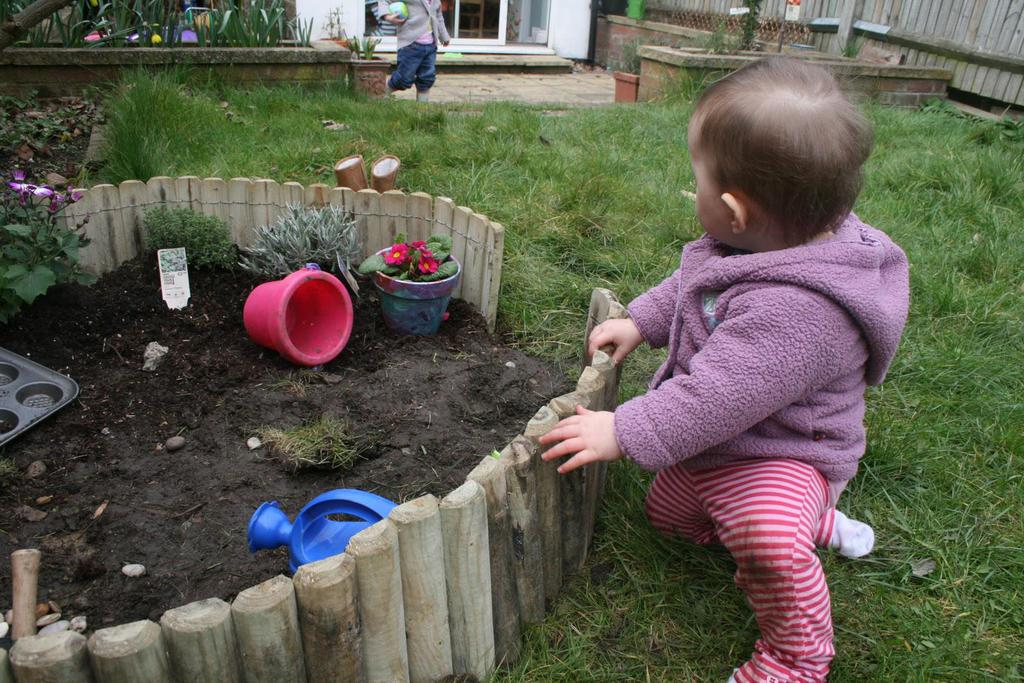child: (531, 49, 914, 680)
